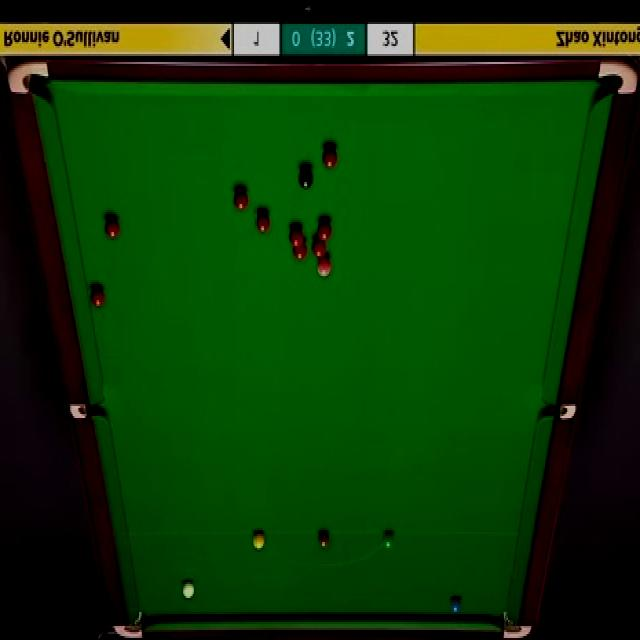black-ball: (298, 167, 315, 190)
blue-ball: (449, 596, 461, 616)
brown-ball: (318, 530, 331, 550)
green-ball: (381, 529, 395, 550)
pink-ball: (317, 255, 333, 280)
red-ball: (288, 225, 306, 248), (104, 215, 119, 242), (316, 218, 332, 243), (232, 189, 250, 211), (253, 212, 270, 235), (312, 235, 328, 259), (292, 240, 308, 262), (90, 285, 106, 307), (323, 148, 337, 170)
white-ball: (182, 579, 195, 600)
yellow-ball: (251, 530, 266, 551)
